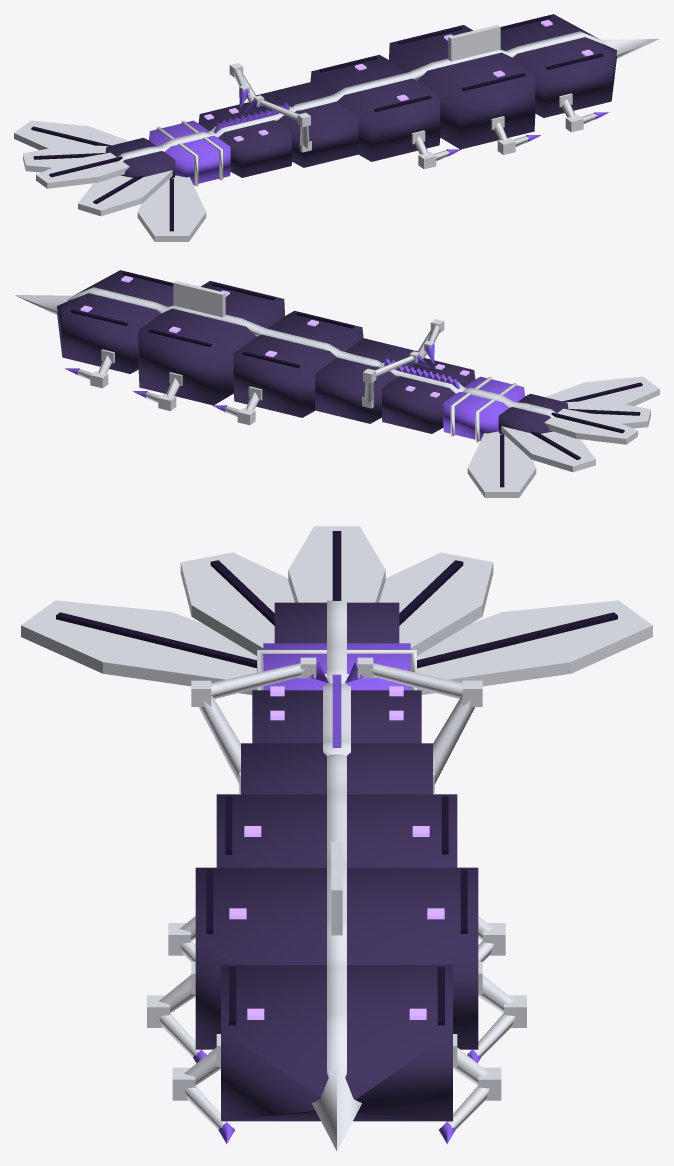
File: lure-hadron.glb
3 views of the same model, one above another, from view 1: azimuth 30°, elevation 25°; view 2: azimuth 150°, elevation 25°; view 3: azimuth 270°, elevation 25° (orthographic). The views are drawn at different scales.
Parts seen in each view (by area): view 1: segment_5, segment_4, segment_6, segment_3, segment_2, fan_1_s_blade, segment_1, fan_0_s_blade, spine_fore, fan_1_p_blade, telson_blade, segment_0 (+7 smaller); view 2: segment_5, segment_4, segment_6, segment_3, segment_2, fan_1_p_blade, segment_1, fan_0_p_blade, spine_fore, fan_1_s_blade, telson_blade, segment_0 (+7 smaller); view 3: segment_6, segment_5, segment_4, fan_1_s_blade, fan_1_p_blade, segment_3, segment_2, fan_0_s_blade, fan_0_p_blade, telson_blade, spine_fore, segment_0 (+12 smaller).
Part boxes in pixels (x1,y1,x2,y2): segment_5: [389, 25, 535, 149]; segment_4: [310, 54, 440, 161]; segment_6: [500, 14, 616, 117]; segment_3: [255, 82, 358, 167]; segment_2: [198, 102, 291, 177]; fan_1_s_blade: [137, 175, 206, 241]; segment_1: [149, 120, 230, 184]; fan_0_s_blade: [78, 170, 172, 216]; spine_fore: [292, 31, 606, 110]; fan_1_p_blade: [14, 120, 128, 150]; telson_blade: [36, 152, 129, 188]; segment_0: [105, 137, 175, 178]; segment_5: [138, 281, 284, 405]; segment_4: [233, 310, 363, 417]; segment_6: [57, 270, 173, 373]; segment_3: [315, 338, 418, 423]; segment_2: [382, 358, 475, 433]; fan_1_p_blade: [467, 431, 536, 497]; segment_1: [443, 376, 524, 440]; fan_0_p_blade: [501, 426, 595, 472]; spine_fore: [67, 287, 381, 366]; fan_1_s_blade: [545, 376, 659, 406]; telson_blade: [544, 408, 637, 444]; segment_0: [498, 393, 568, 434]; segment_6: [221, 965, 452, 1121]; segment_5: [195, 867, 478, 1049]; segment_4: [216, 794, 457, 867]; fan_1_s_blade: [21, 600, 256, 694]; fan_1_p_blade: [417, 600, 652, 694]; segment_3: [241, 743, 432, 794]; segment_2: [252, 690, 421, 743]; fan_0_s_blade: [180, 552, 294, 655]; fan_0_p_blade: [379, 552, 493, 655]; telson_blade: [288, 526, 385, 602]; spine_fore: [327, 754, 346, 1078]; segment_0: [274, 602, 399, 643].
Size of the model in its own units: 100 by 14.92 by 44.24.
